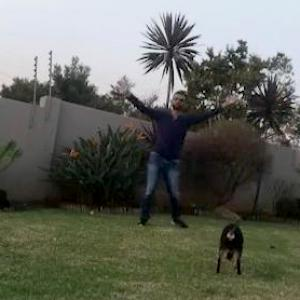takeoff: (130, 85, 247, 221)
